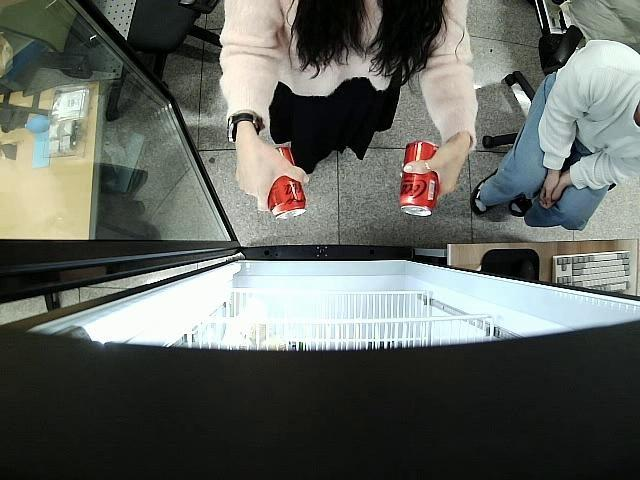11_cocaColaZero: (266, 142, 309, 222), (399, 140, 440, 218)
